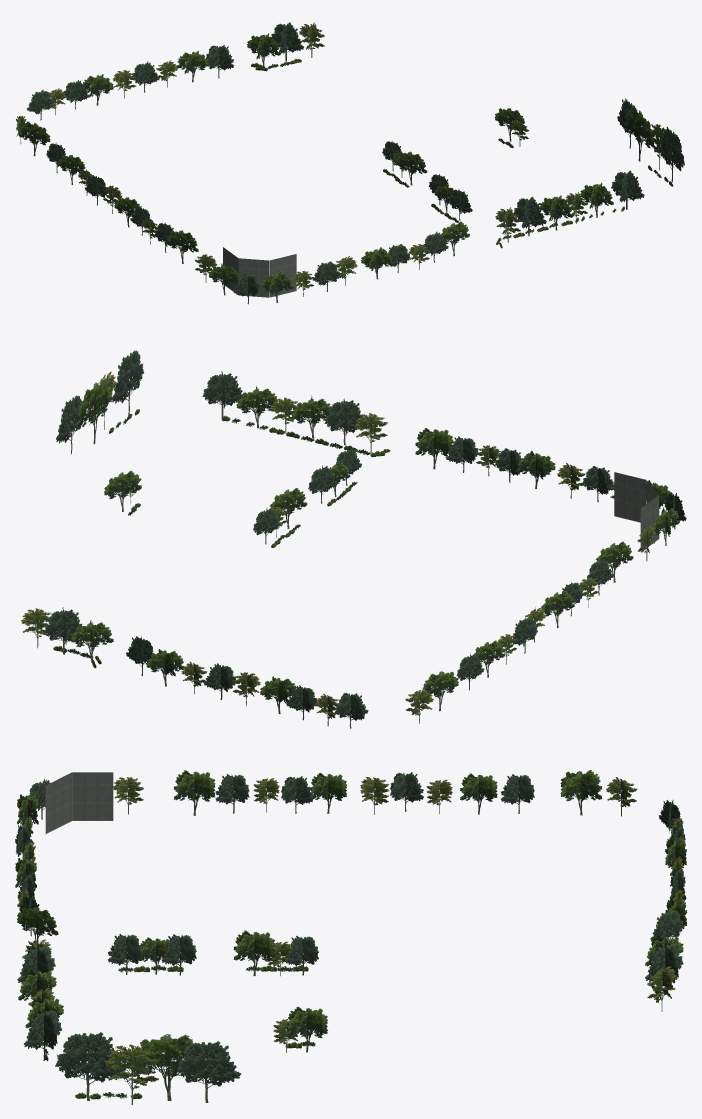
The model's file is st_010_tree.fbx.
3 views of the same model, one above another, from view 1: azimuth 30°, elevation 25°; view 2: azimuth 150°, elevation 25°; view 3: azimuth 270°, elevation 25° (orthographic). The views are drawn at different scales.
Parts seen in each view (by area): view 1: st_010_Tree; view 2: st_010_Tree; view 3: st_010_Tree.
Boxes of the visible parts, x1,y1,x2,y2 form: st_010_Tree: (16, 22, 684, 304); st_010_Tree: (21, 350, 686, 728); st_010_Tree: (15, 770, 687, 1104).
Size of the model in its own units: 252 by 28.59 by 242.
